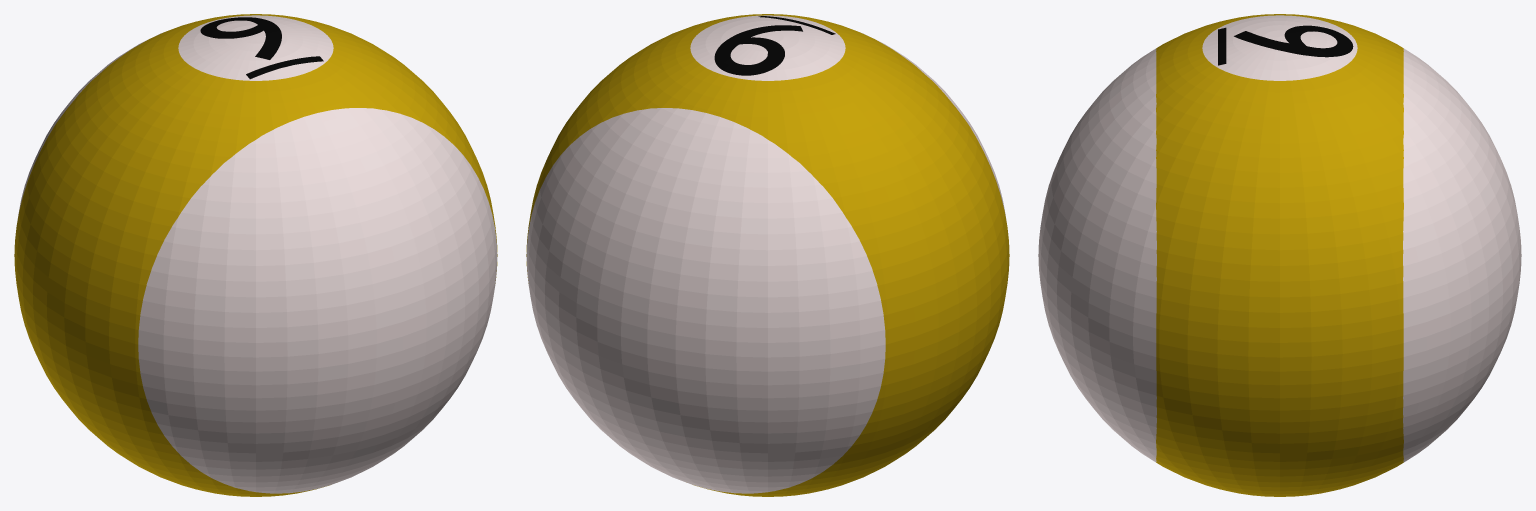
Rendered from nineBall.glb.
3 views of the same model, side by side, from view 1: azimuth 30°, elevation 25°; view 2: azimuth 150°, elevation 25°; view 3: azimuth 270°, elevation 25° (orthographic).
Visible parts, largest first — view 1: Sphere; view 2: Sphere; view 3: Sphere.
Boxes of the visible parts, x1,y1,x2,y2 form: Sphere: [14, 14, 497, 496]; Sphere: [526, 14, 1009, 496]; Sphere: [1038, 14, 1521, 496].
Size of the model in its own units: 0.127 by 0.127 by 0.127.
